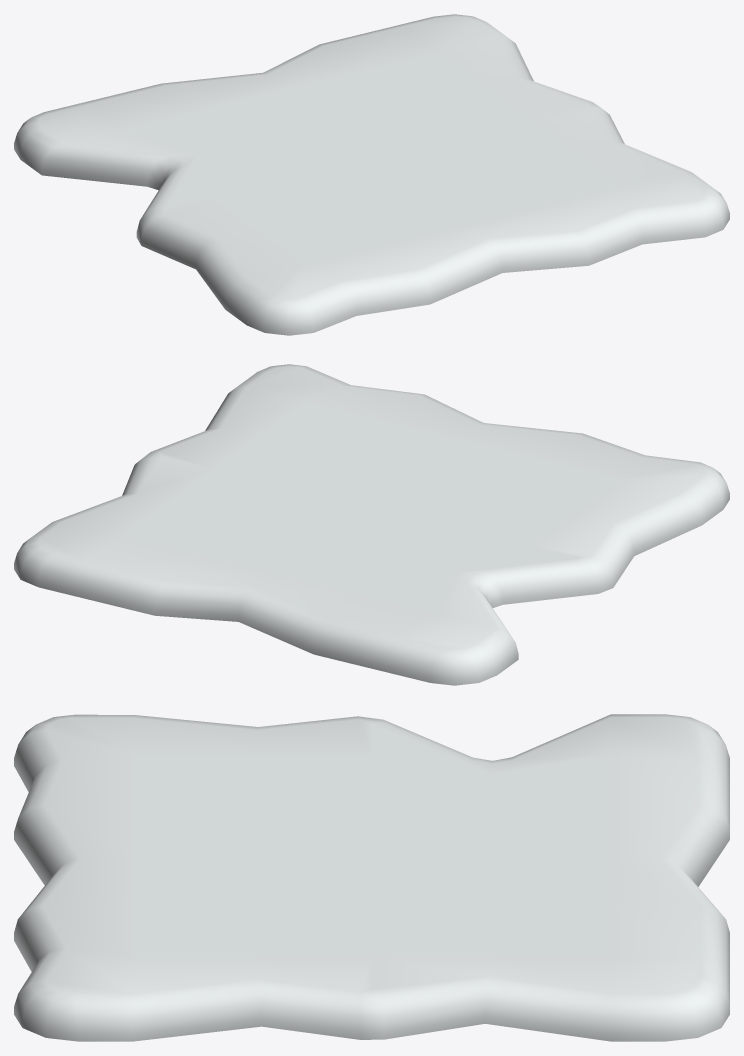
File: Floor (Snow 1).fbx
3 renders of one model, top to bottom at view 1: azimuth 30°, elevation 25°; view 2: azimuth 150°, elevation 25°; view 3: azimuth 270°, elevation 25°, orthographic. The views are drawn at different scales.
Parts seen in each view (by area): view 1: Floor (Snow 1); view 2: Floor (Snow 1); view 3: Floor (Snow 1).
Part boxes in pixels (bbox=[...]): Floor (Snow 1): bbox=[14, 14, 729, 335]; Floor (Snow 1): bbox=[14, 364, 729, 685]; Floor (Snow 1): bbox=[14, 714, 729, 1041].
Size of the model in its own units: 3940 by 211 by 3940.
